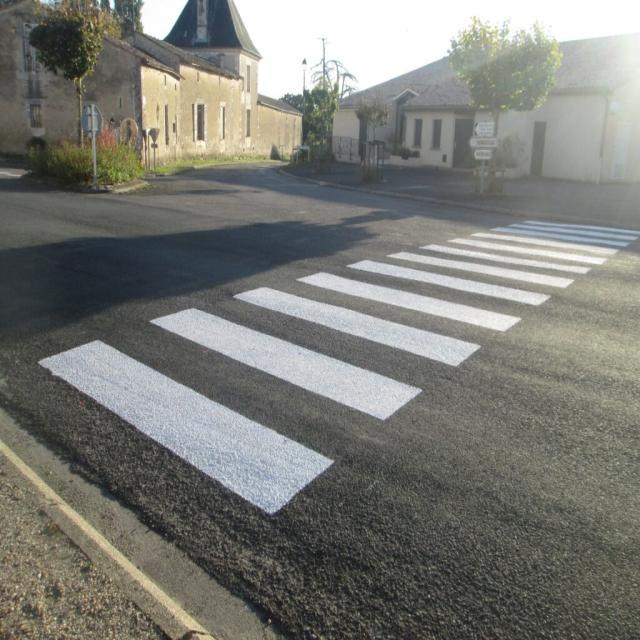crosswalk: (0, 217, 640, 569)
